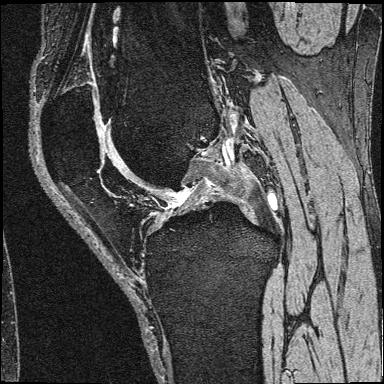SagKneeJointArea: (40, 82, 281, 291)
